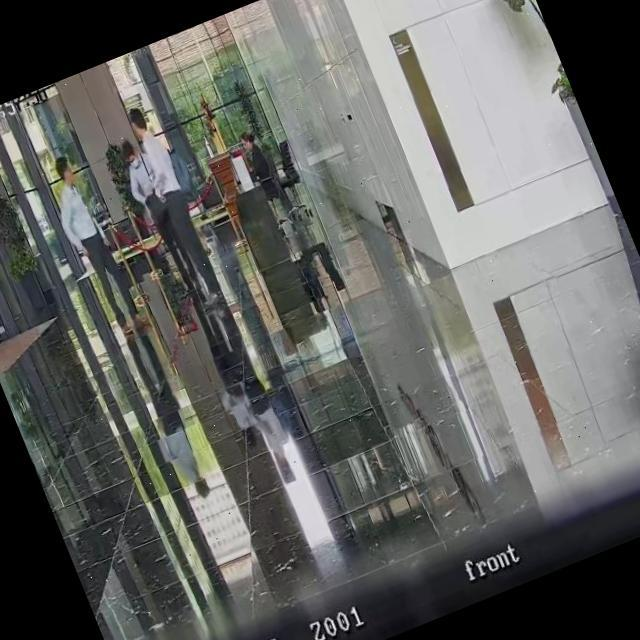person: (37, 150, 152, 346), (122, 101, 228, 307), (111, 130, 211, 315), (234, 128, 281, 202)
